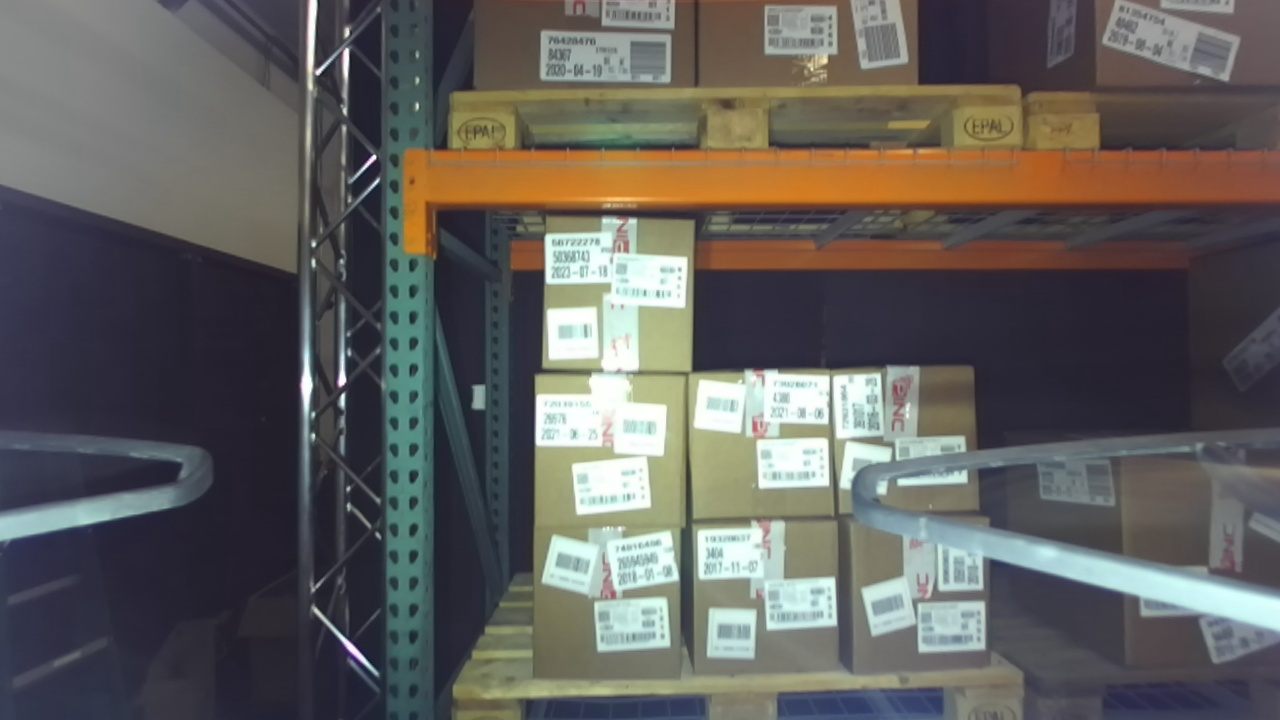box: (673, 507, 862, 689), (516, 360, 706, 539), (525, 196, 704, 384), (679, 345, 849, 539), (820, 354, 1001, 532), (826, 500, 1002, 683), (517, 517, 702, 690)
